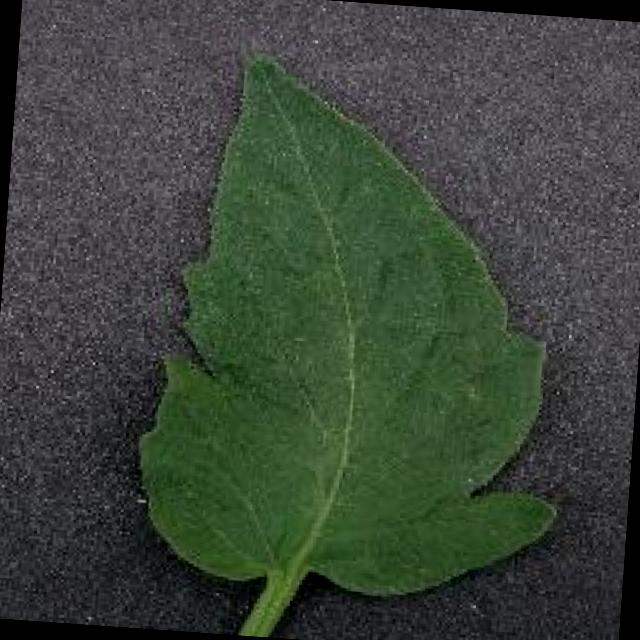healthy: (137, 56, 550, 636)
